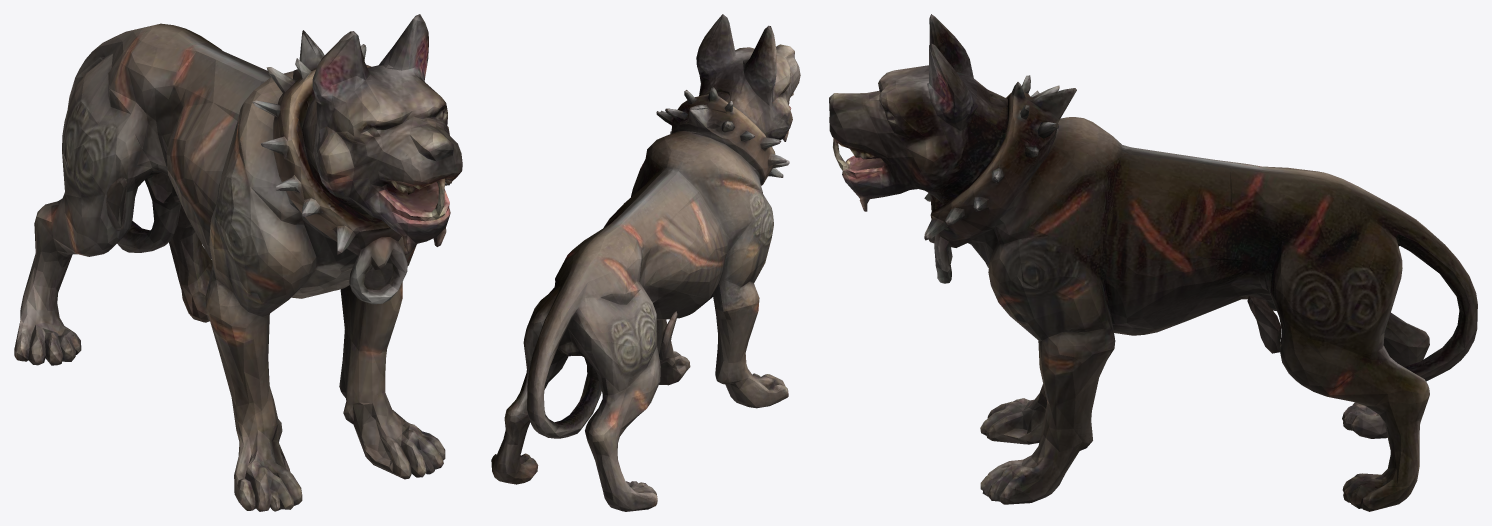
File: overseersHound.glb
3 renders of one model, left to right at view 1: azimuth 30°, elevation 25°; view 2: azimuth 150°, elevation 25°; view 3: azimuth 270°, elevation 25°, orthographic. The views are drawn at different scales.
Parts seen in each view (by area): view 1: world; view 2: world; view 3: world.
Boxes of the visible parts, x1,y1,x2,y2 form: world: (14, 14, 462, 511); world: (491, 14, 800, 511); world: (829, 14, 1477, 511).
Size of the model in its own units: 0.3746 by 0.7471 by 1.
Materials: 1 (1 with a texture image).
